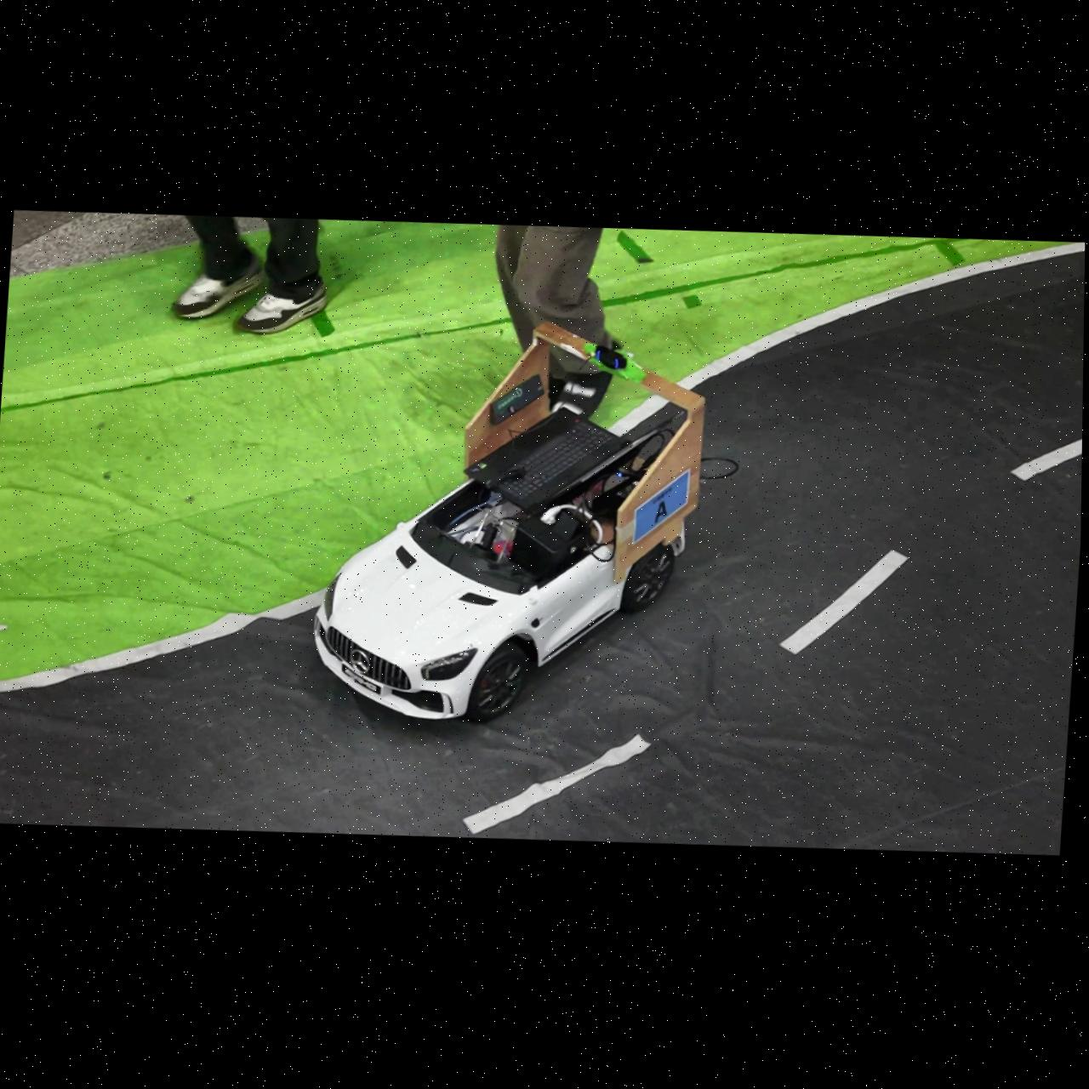broken_line: (463, 734, 650, 832), (780, 550, 906, 653), (1011, 439, 1082, 480)
